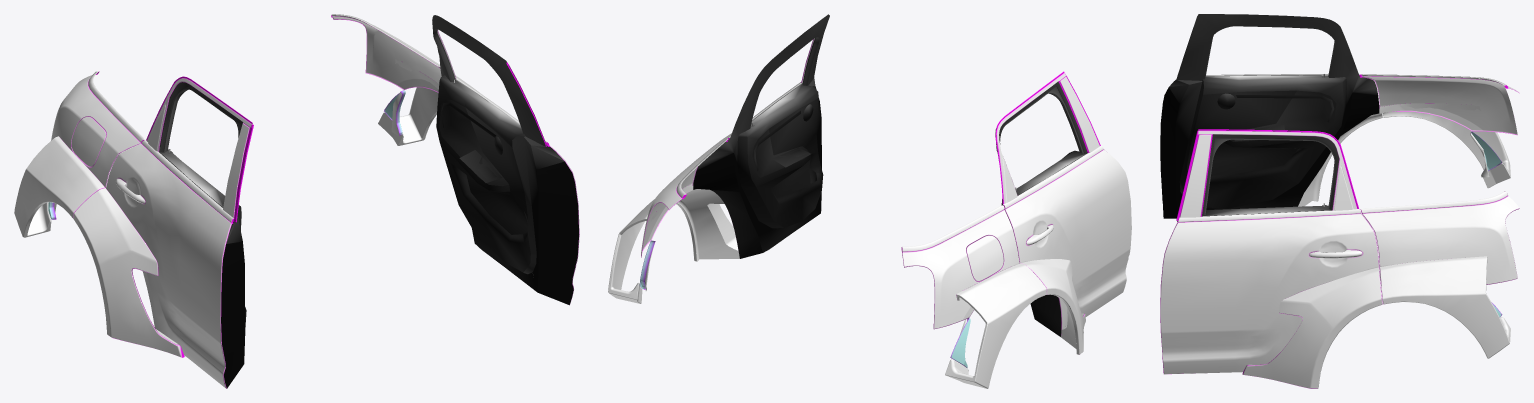
File: Car_Mini_CountrymanJCW_2017_FendersR_SetC_AltB.fbx
3 renders of one model, left to right at view 1: azimuth 30°, elevation 25°; view 2: azimuth 150°, elevation 25°; view 3: azimuth 270°, elevation 25°, orthographic. The views are drawn at different scales.
Visible parts, largest first — view 1: FendersR 6; view 2: FendersR 6; view 3: FendersR 6.
Boxes of the visible parts, left/top/right/bottom form: FendersR 6: left=14, top=14, right=579, bottom=388; FendersR 6: left=608, top=14, right=1131, bottom=388; FendersR 6: left=1160, top=14, right=1519, bottom=388.
Bounding box in the file's own units: 2.07 × 1.14 × 1.66.
